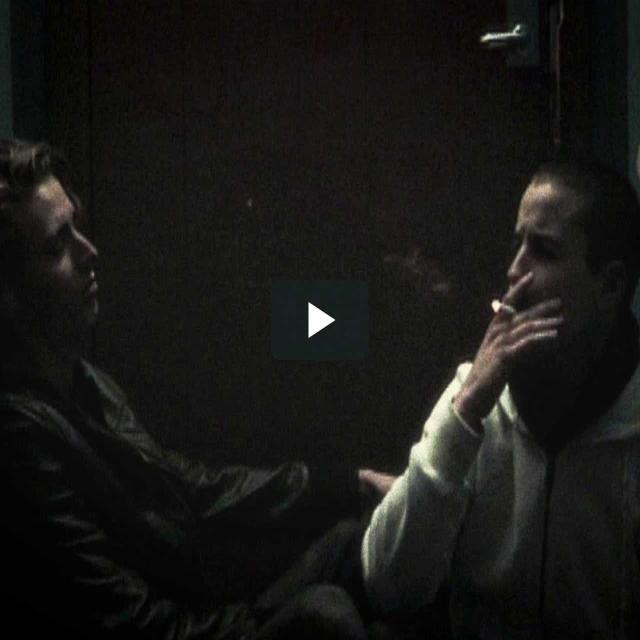Smooking: (484, 292, 515, 327)
